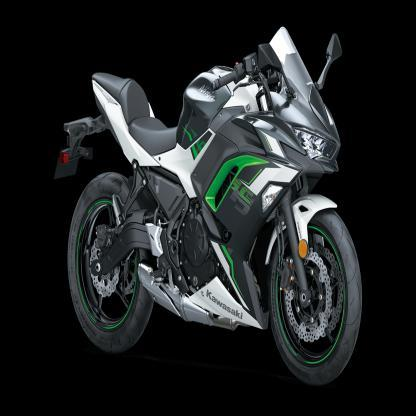Motorcycle: (52, 16, 368, 392)
